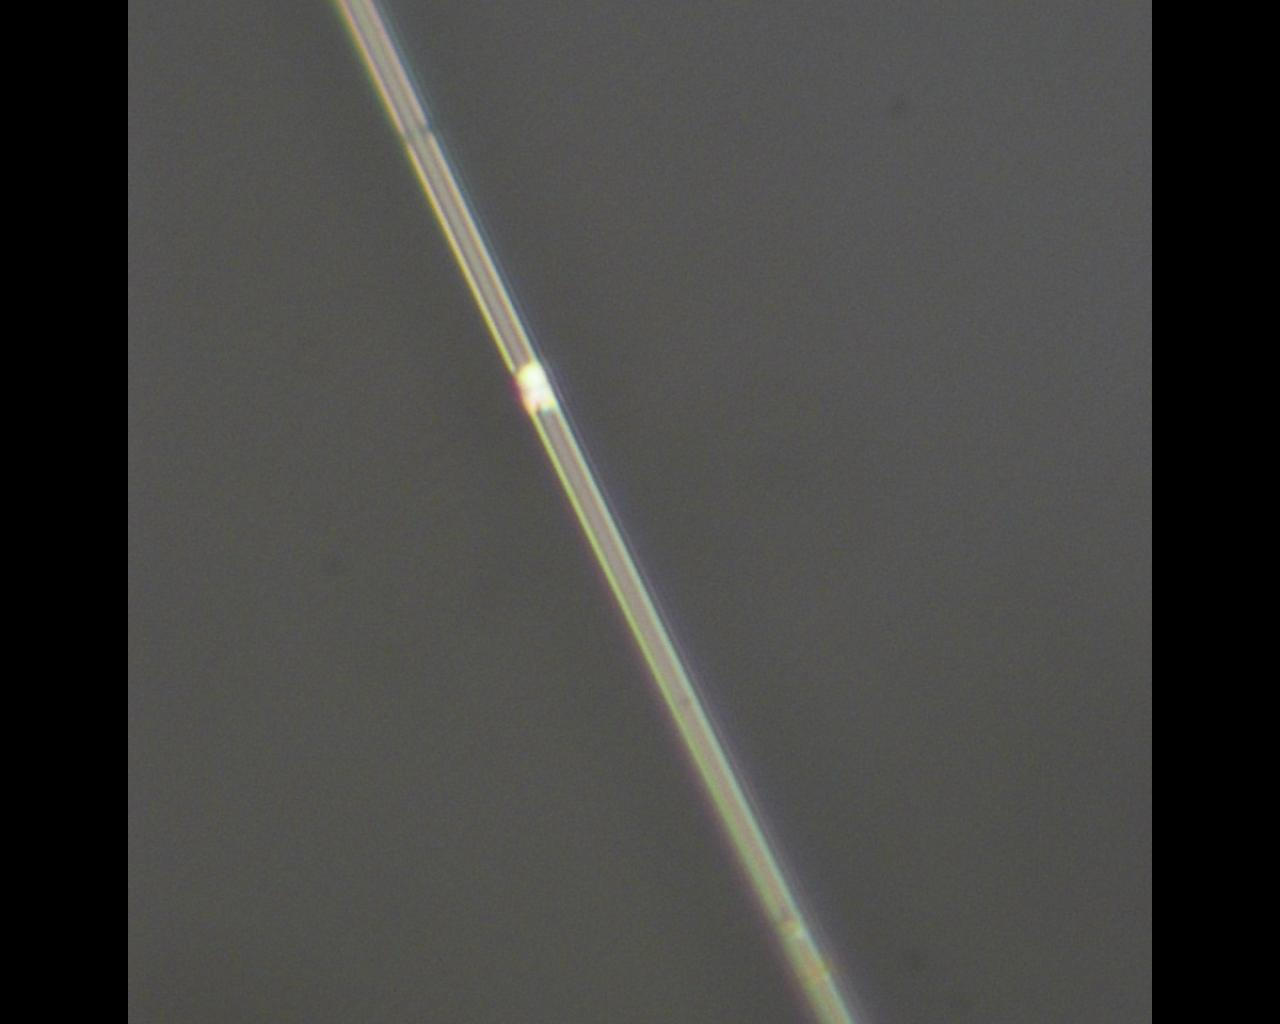fiber: (0, 409, 283, 1024), (109, 140, 691, 409), (691, 409, 917, 1024)
